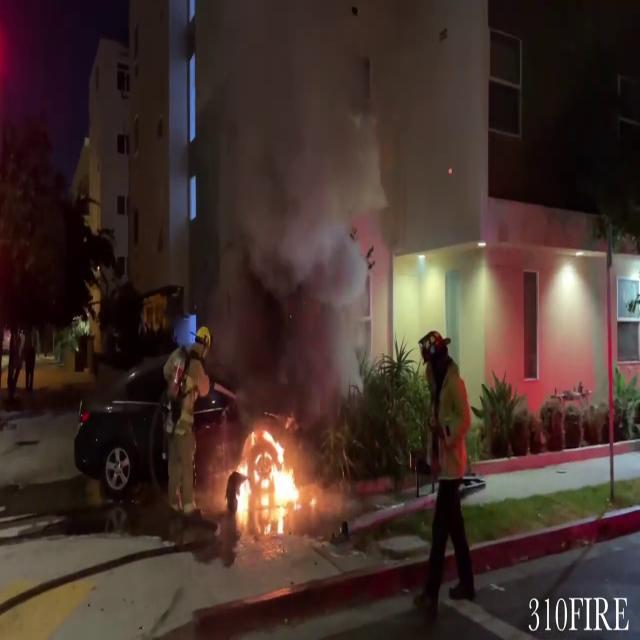Fire: (230, 419, 310, 533)
Smoke: (211, 222, 353, 414)
